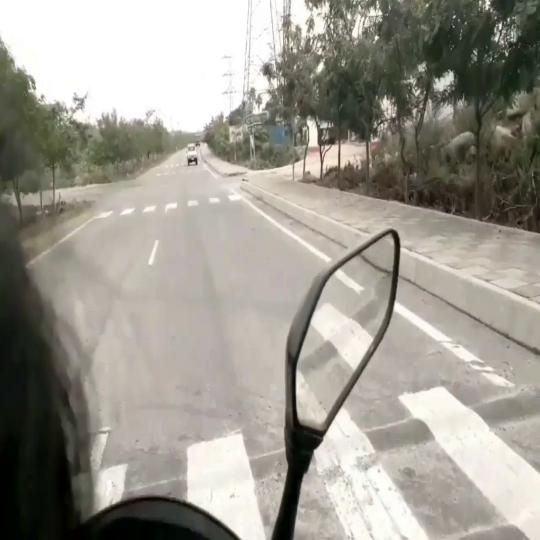Speed Bump: (342, 389, 540, 471), (120, 436, 283, 495), (460, 494, 540, 540)
